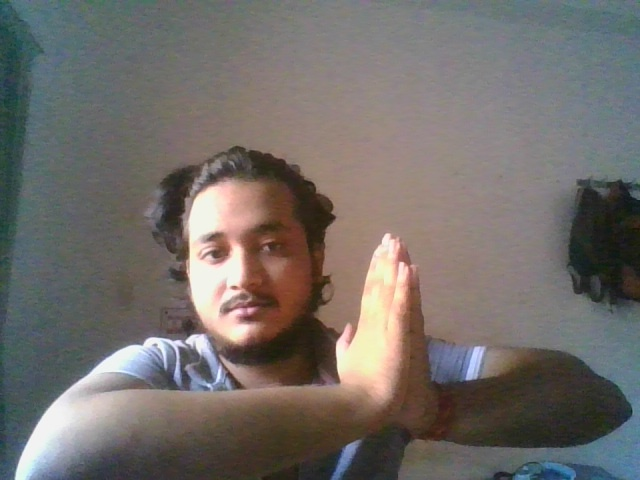ThankYou: (336, 231, 429, 441)
